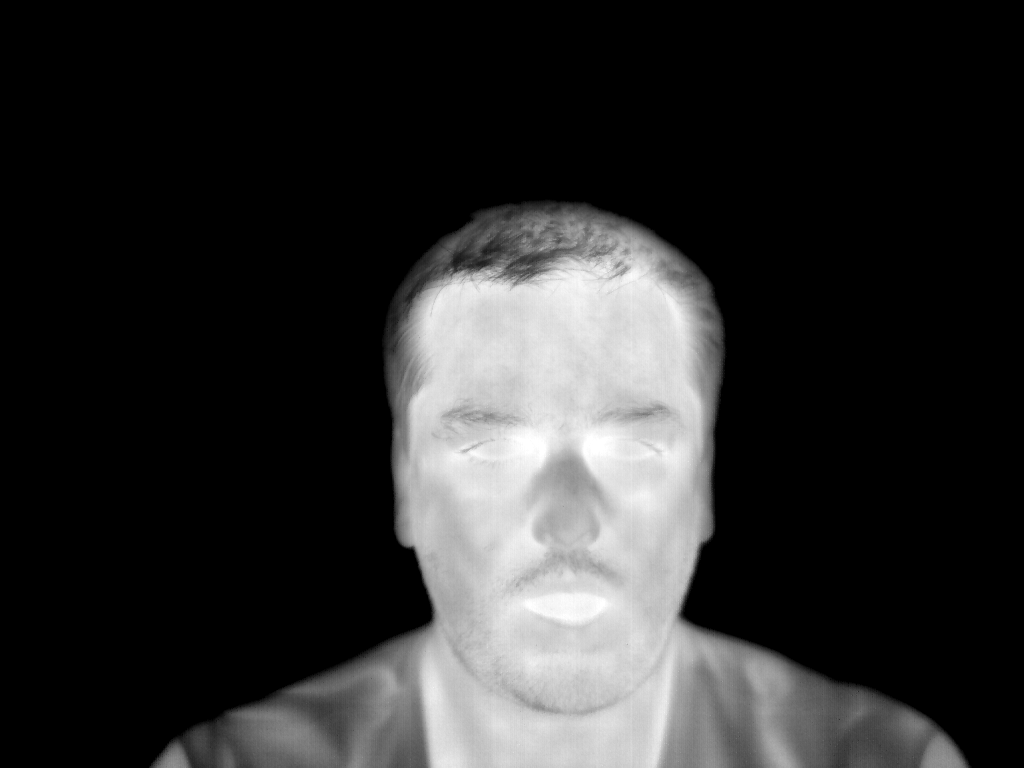face: (422, 290, 704, 711)
